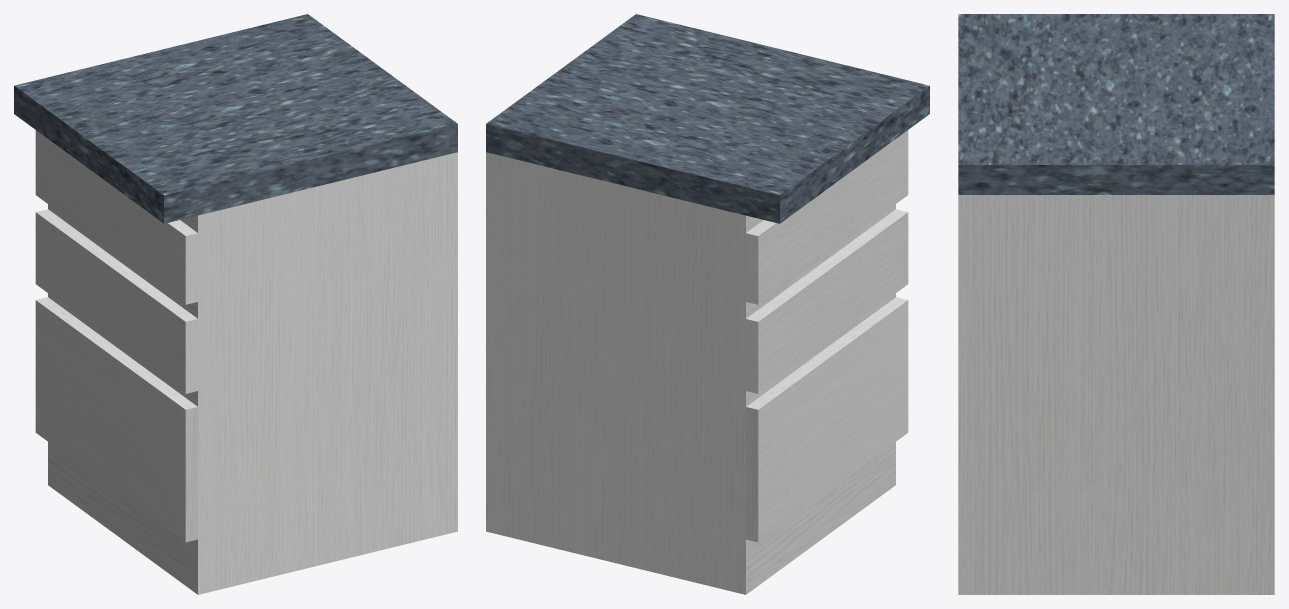
Rendered from Kokkenbord.gltf.
3 renders of one model, left to right at view 1: azimuth 30°, elevation 25°; view 2: azimuth 150°, elevation 25°; view 3: azimuth 270°, elevation 25°, orthographic. The views are drawn at different scales.
Parts seen in each view (by area): view 1: Cube; view 2: Cube; view 3: Cube.
Part boxes in pixels (<box>): Cube: <box>14,14,457,594</box>; Cube: <box>486,14,929,594</box>; Cube: <box>958,14,1274,594</box>.
Bounding box in the file's own units: 0.5653 × 0.75 × 0.5.
1 material, 1 textured.
